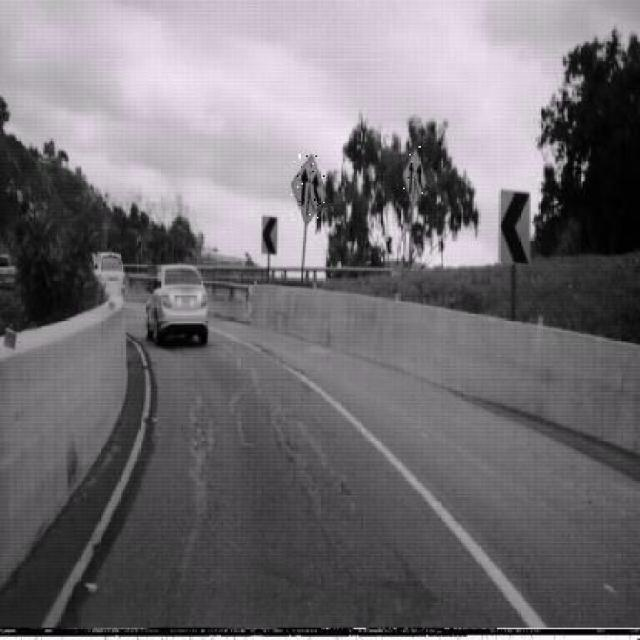addedLane: (290, 154, 328, 225), (402, 146, 426, 210)
